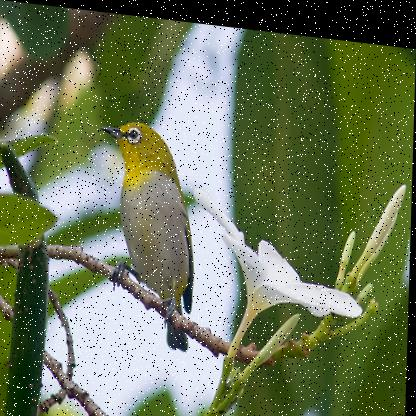Burung: (97, 115, 198, 346)
